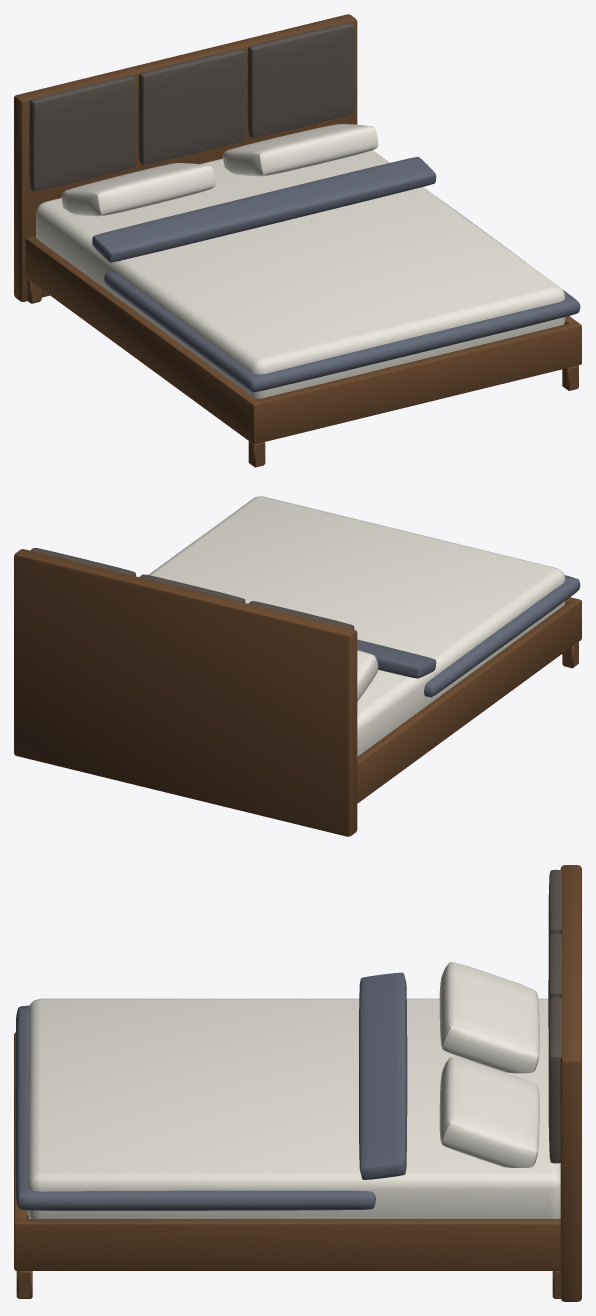
Rendered from bed_double.glb.
The picture shows the model from 3 angles, top to bottom: view 1: azimuth 30°, elevation 25°; view 2: azimuth 150°, elevation 25°; view 3: azimuth 270°, elevation 25°; orthographic projection. The views are drawn at different scales.
Parts seen in each view (by area): view 1: main__bed_double__linen_sheet, main__bed_double__wood_oak, main__bed_double__fabric_headboard, main__bed_double__fabric_duvet; view 2: main__bed_double__wood_oak, main__bed_double__linen_sheet, main__bed_double__fabric_duvet, main__bed_double__fabric_headboard; view 3: main__bed_double__linen_sheet, main__bed_double__wood_oak, main__bed_double__fabric_duvet, main__bed_double__fabric_headboard.
Boxes of the visible parts, x1,y1,x2,y2 form: main__bed_double__linen_sheet: [36, 124, 565, 399]; main__bed_double__wood_oak: [14, 14, 581, 467]; main__bed_double__fabric_headboard: [29, 22, 354, 191]; main__bed_double__fabric_duvet: [92, 157, 580, 392]; main__bed_double__wood_oak: [14, 549, 581, 836]; main__bed_double__linen_sheet: [149, 496, 565, 756]; main__bed_double__fabric_duvet: [148, 545, 580, 697]; main__bed_double__fabric_headboard: [30, 548, 354, 629]; main__bed_double__linen_sheet: [27, 962, 560, 1218]; main__bed_double__wood_oak: [14, 865, 581, 1301]; main__bed_double__fabric_duvet: [15, 972, 407, 1210]; main__bed_double__fabric_headboard: [548, 869, 561, 1163].
Size of the model in its own units: 1.74 by 1 by 2.12.
